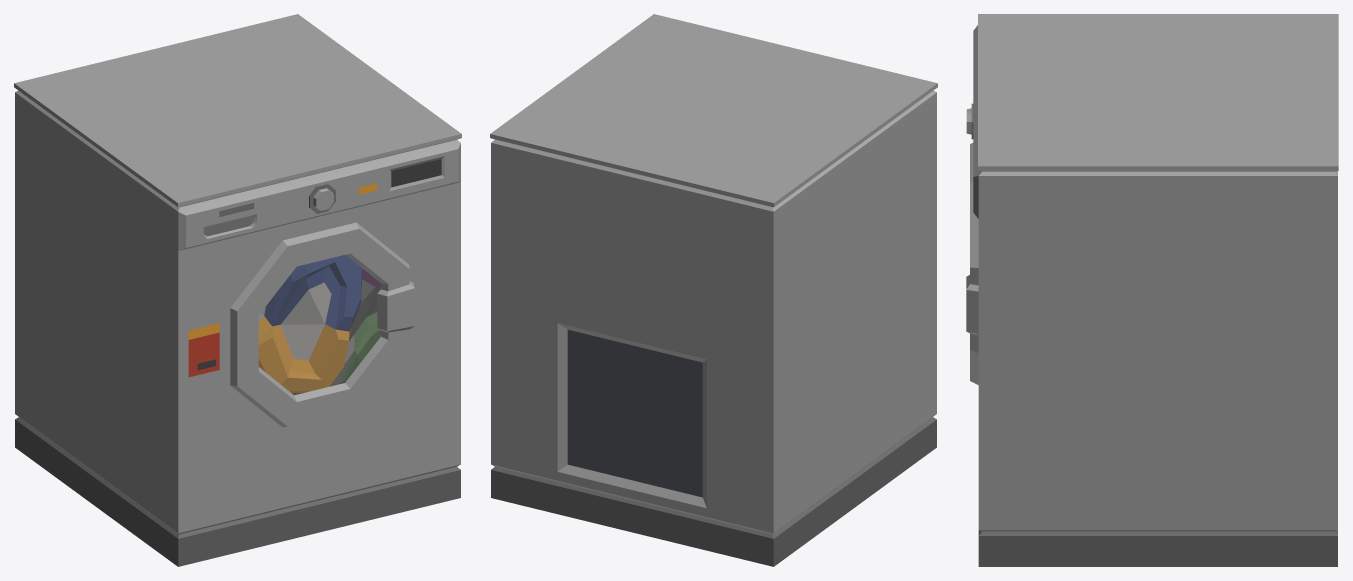
The model's file is SM_Prop_Laundry_WasherFront_01.fbx.
3 renders of one model, left to right at view 1: azimuth 30°, elevation 25°; view 2: azimuth 150°, elevation 25°; view 3: azimuth 270°, elevation 25°, orthographic. The views are drawn at different scales.
Parts seen in each view (by area): view 1: SM_Prop_Laundry_WasherFront_01, SM_Prop_Laundry_WasherFront_Door_01, SM_Prop_Laundry_WasherFront_Clothes_01; view 2: SM_Prop_Laundry_WasherFront_01; view 3: SM_Prop_Laundry_WasherFront_01, SM_Prop_Laundry_WasherFront_Door_01.
Part boxes in pixels (x1=…): SM_Prop_Laundry_WasherFront_01: x1=14, y1=14, x2=461, y2=566; SM_Prop_Laundry_WasherFront_Door_01: x1=230, y1=222, x2=414, y2=427; SM_Prop_Laundry_WasherFront_Clothes_01: x1=258, y1=255, x2=380, y2=395; SM_Prop_Laundry_WasherFront_01: x1=490, y1=14, x2=937, y2=566; SM_Prop_Laundry_WasherFront_01: x1=966, y1=14, x2=1338, y2=566; SM_Prop_Laundry_WasherFront_Door_01: x1=966, y1=143, x2=978, y2=384.
Bounding box in the file's own units: 100 × 123 × 104.
